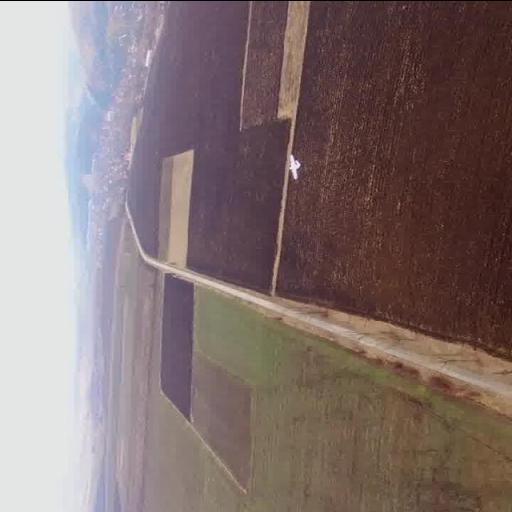uav: (282, 152, 320, 188)
